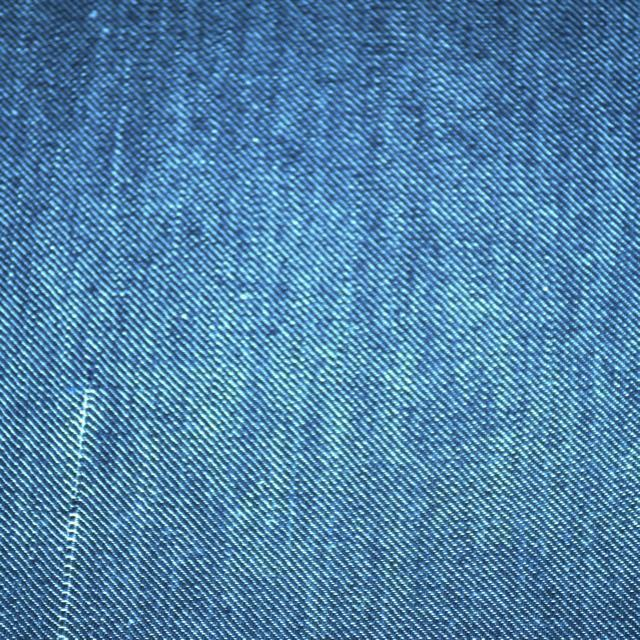Line: (54, 372, 101, 640)
